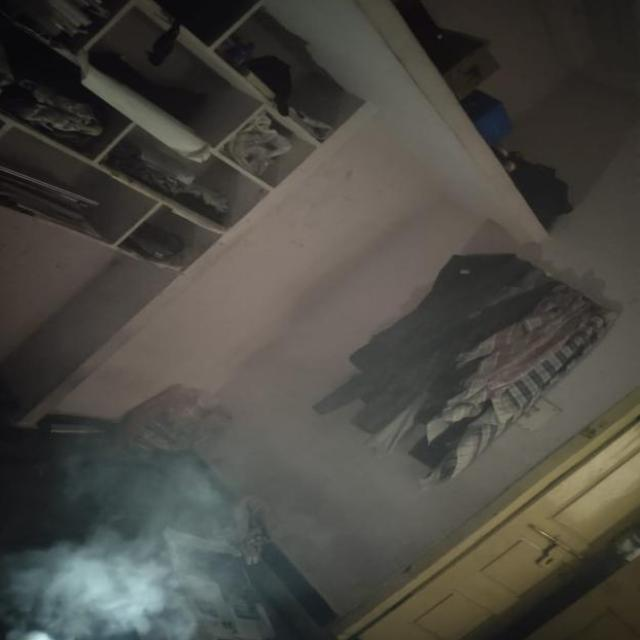fire: (0, 450, 295, 640)
